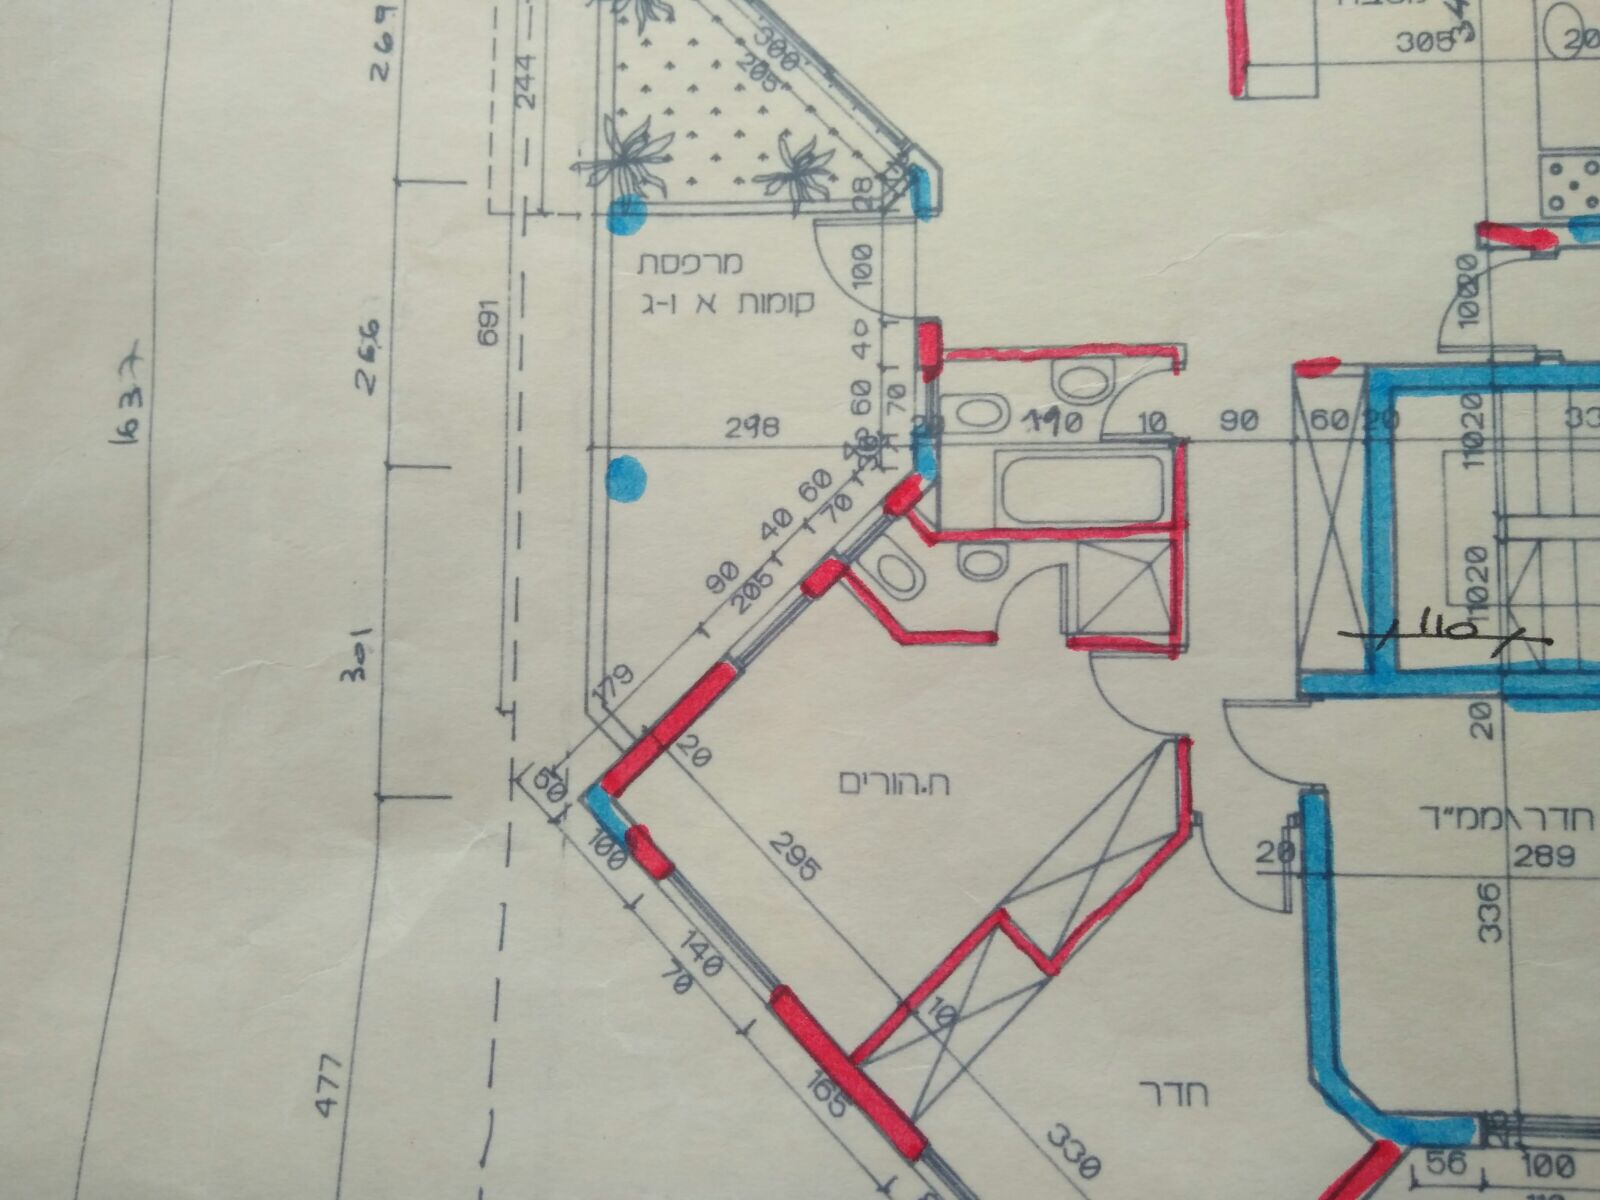door: (799, 211, 975, 321), (1197, 802, 1296, 930), (1223, 698, 1367, 784)
